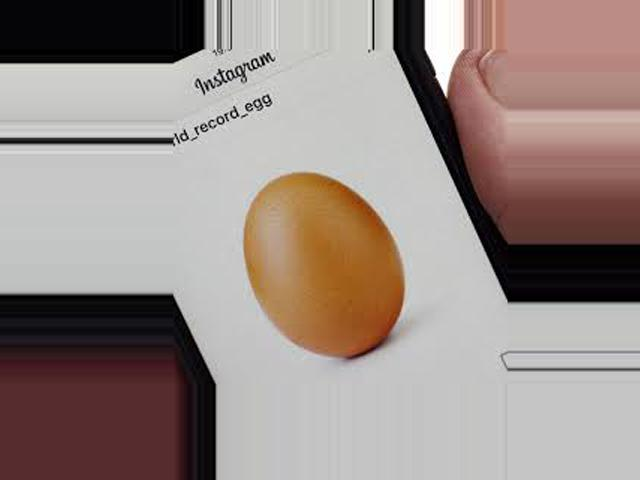egg: (244, 172, 404, 357)
